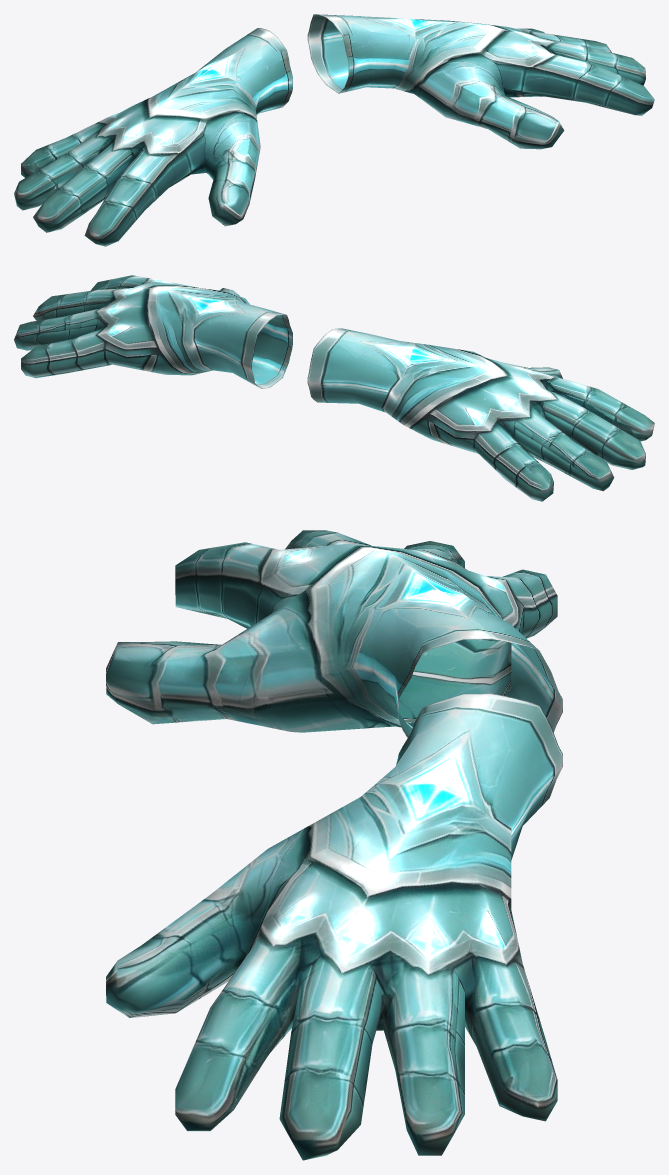
Rendered from LuminousGloves.glb.
3 views of the same model, one above another, from view 1: azimuth 30°, elevation 25°; view 2: azimuth 150°, elevation 25°; view 3: azimuth 270°, elevation 25° (orthographic). The views are drawn at different scales.
Bounding box in the file's own units: 2 × 0.3199 × 0.6521.
1 material, 1 textured.
